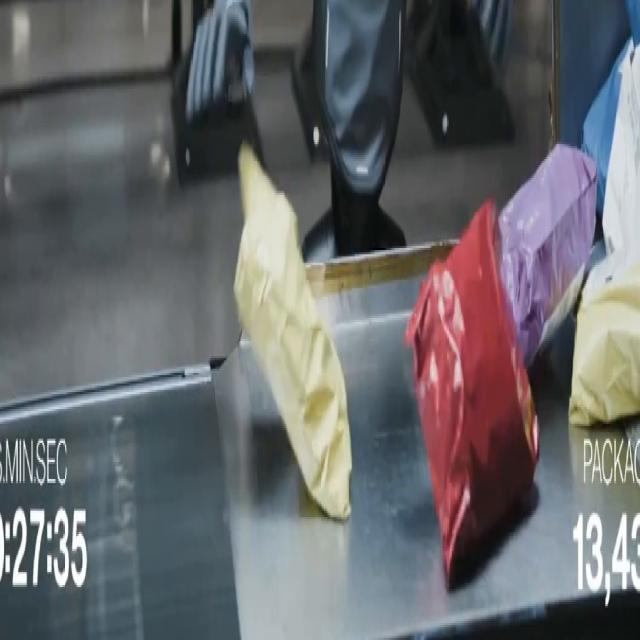package: (406, 202, 538, 587), (234, 145, 351, 519), (500, 145, 596, 366), (569, 253, 639, 425), (582, 39, 633, 216), (603, 51, 639, 254), (626, 0, 639, 44)
